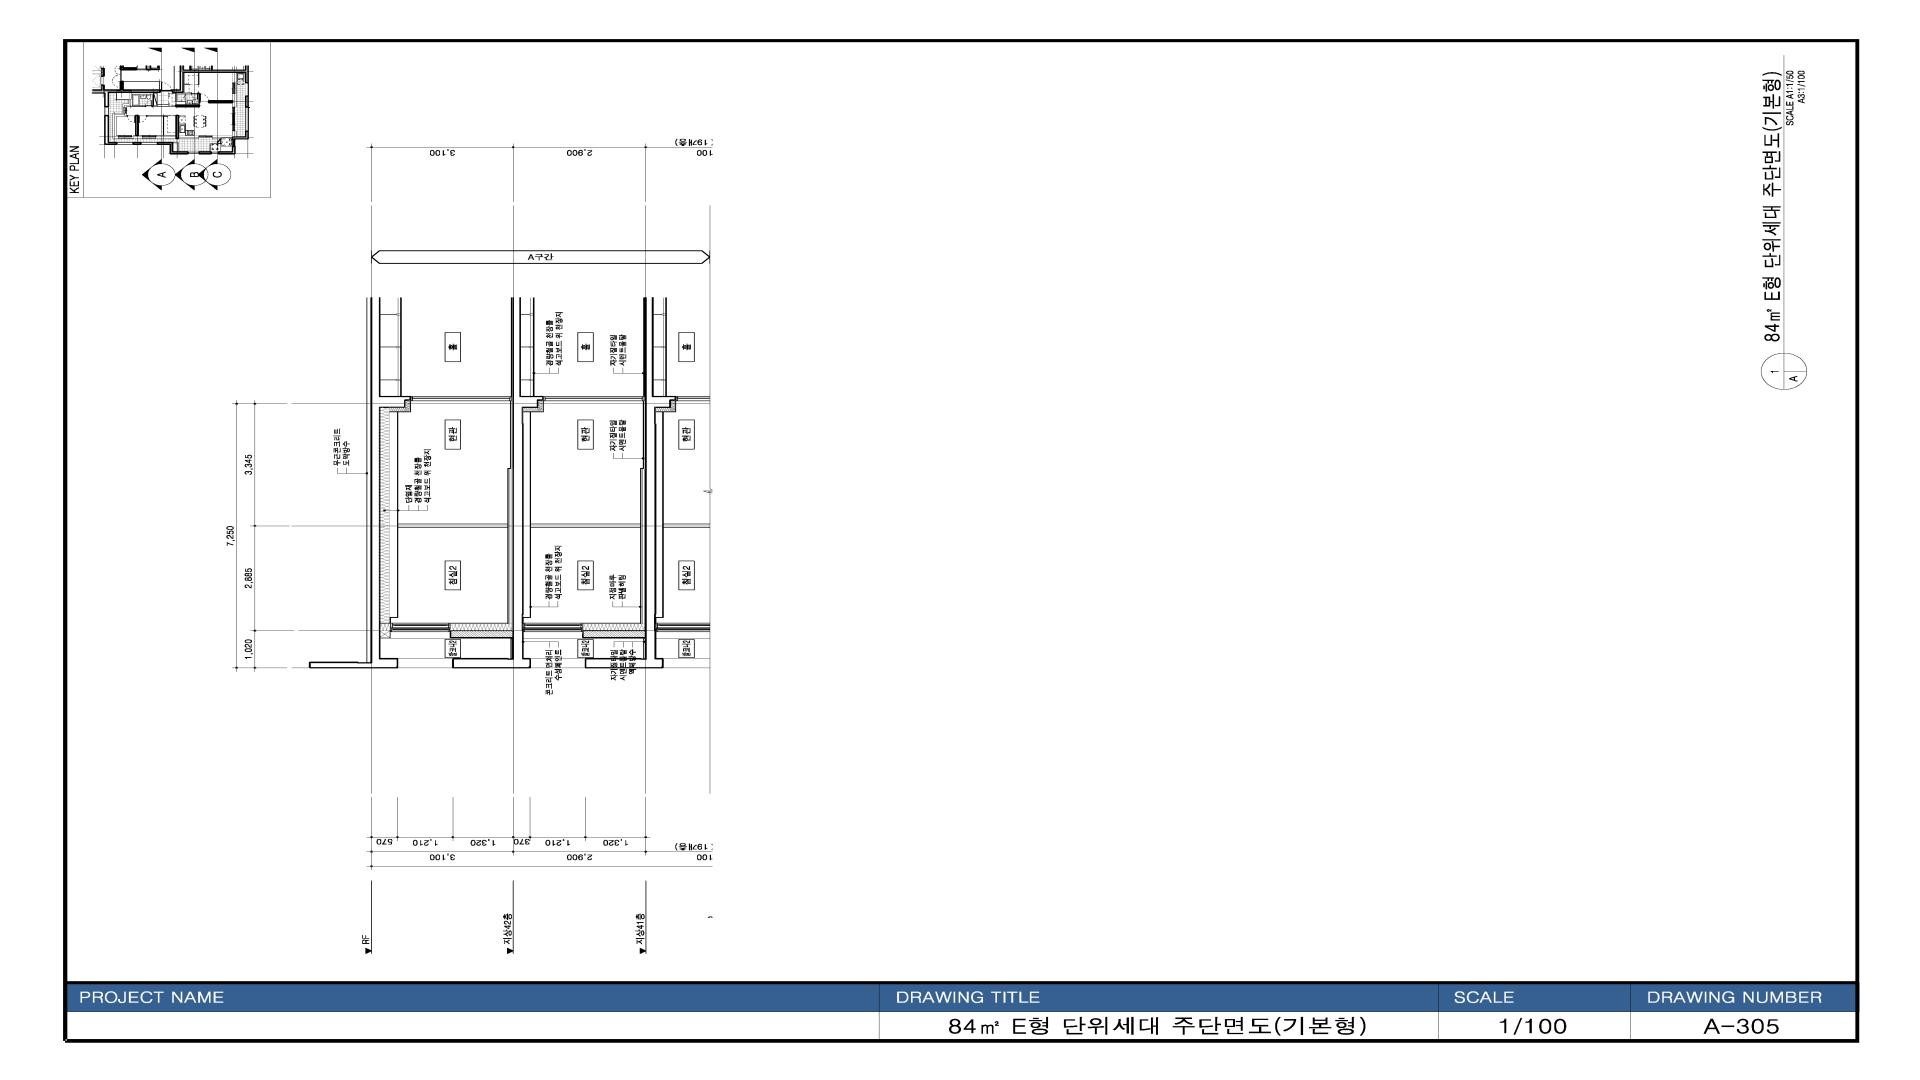door: (411, 396, 513, 401), (543, 396, 644, 401)
wall: (309, 396, 411, 668), (452, 396, 543, 668), (585, 396, 656, 668), (582, 631, 646, 638), (450, 631, 513, 638), (531, 524, 640, 528), (398, 524, 507, 528)
window: (390, 623, 450, 638), (524, 623, 583, 638), (398, 658, 452, 668), (531, 658, 585, 668)
